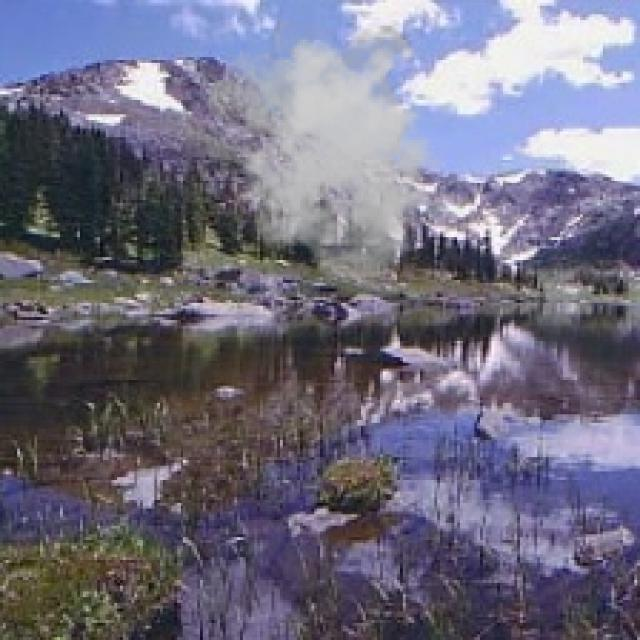Smoke: (209, 20, 457, 283)
